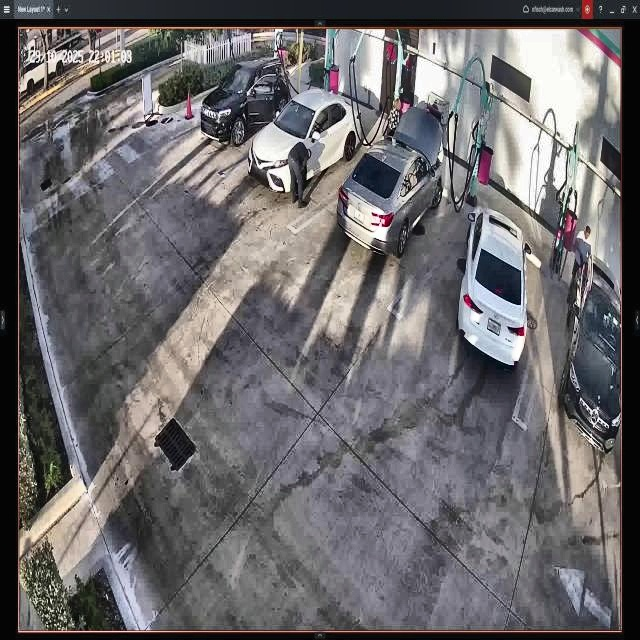Car: (338, 109, 444, 255), (249, 86, 363, 188), (458, 206, 525, 369), (202, 59, 293, 147)
